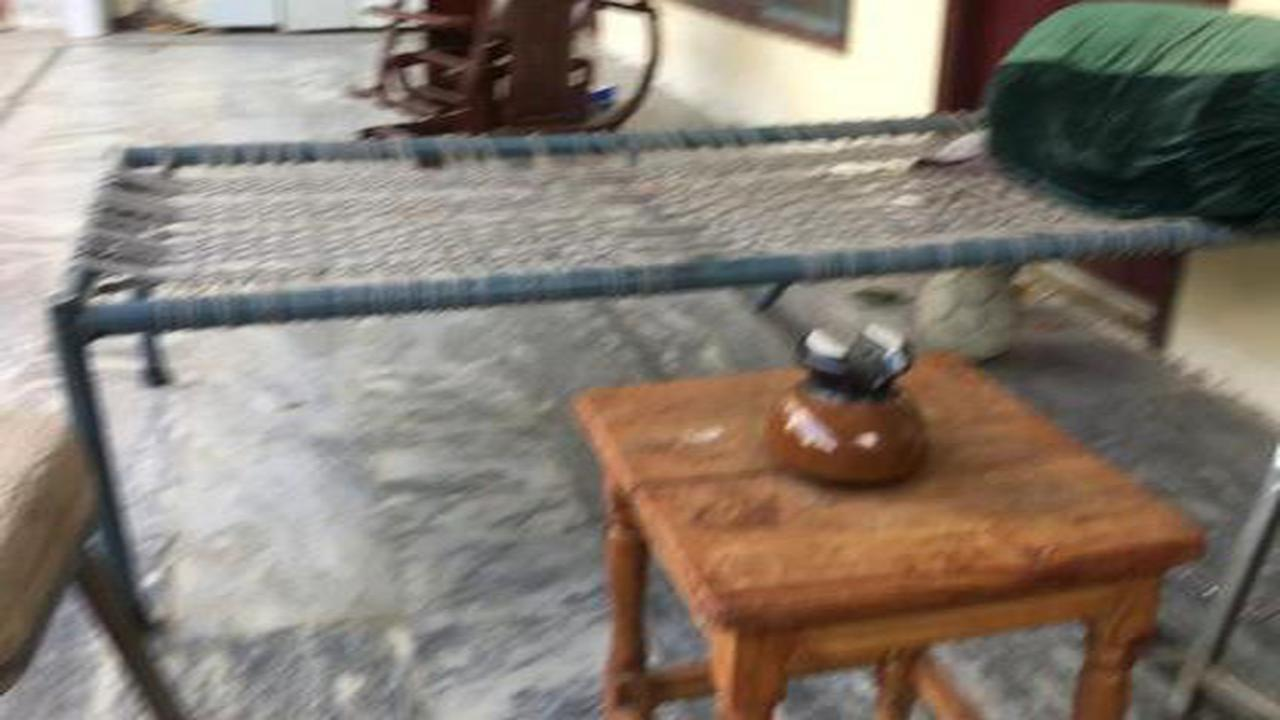insulator_pin: (761, 309, 942, 501)
